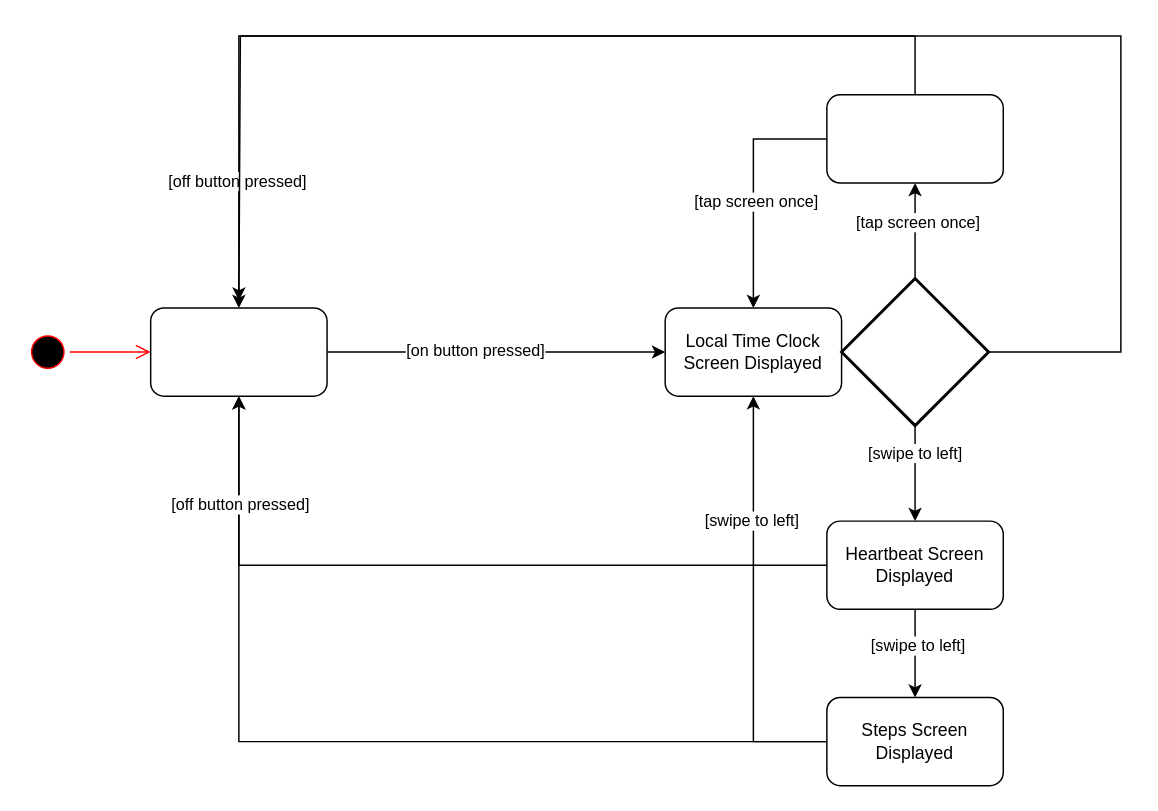
Image size: 1158x811. Some labels were removed from this diagram. Here are the shapes that lost their labels. From the top down, the centre of each, then its label:
the point at 914,138: International Clock Screen Displayed
the point at 238,351: Screen Off
